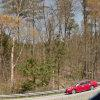Tree: (15, 5, 61, 78)
